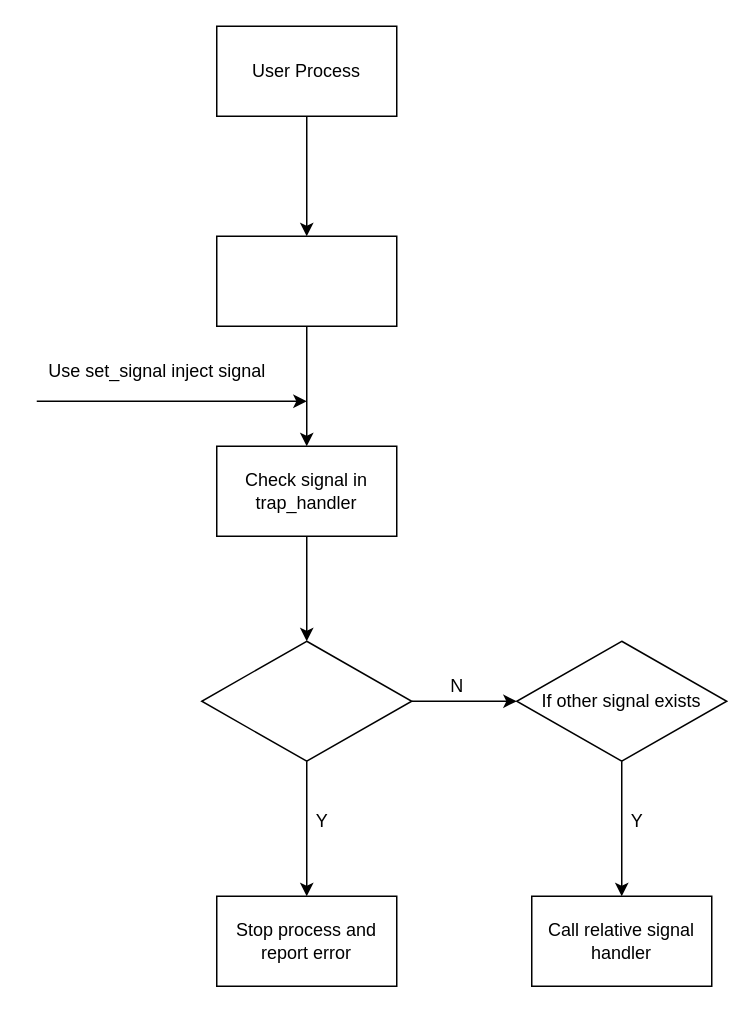
This 753x1013 diagram has some shape labels left out. The shapes that lost their labels are listed below. From the top down, each one's centre as x and y in pixels, then its label:
[306,280]: Trap into kernel
[306,700]: If error signal exists
